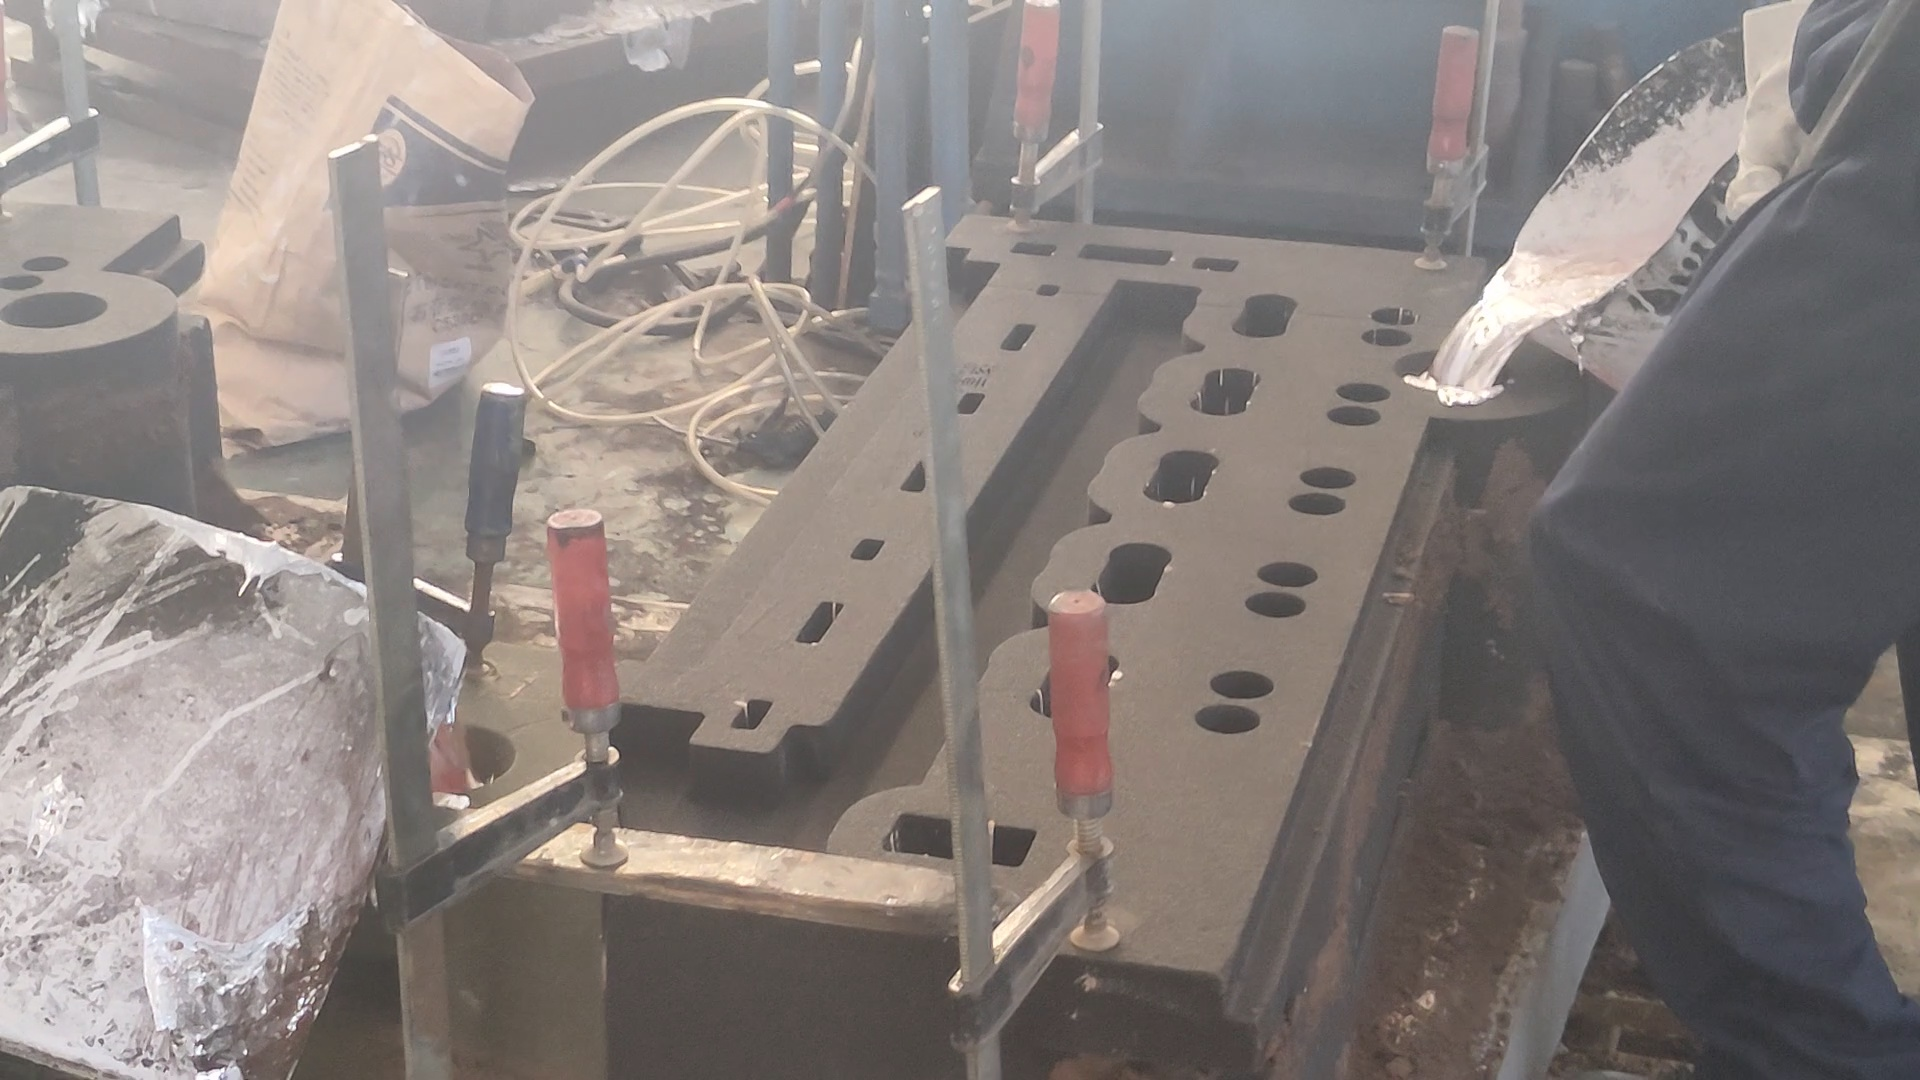pouring hole: (377, 719, 517, 793), (1393, 349, 1516, 384), (1, 291, 107, 328)
